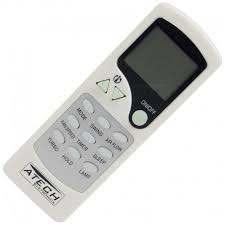remote control: (5, 5, 224, 225)
